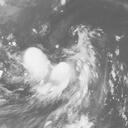cyclone: (24, 47, 72, 92)
